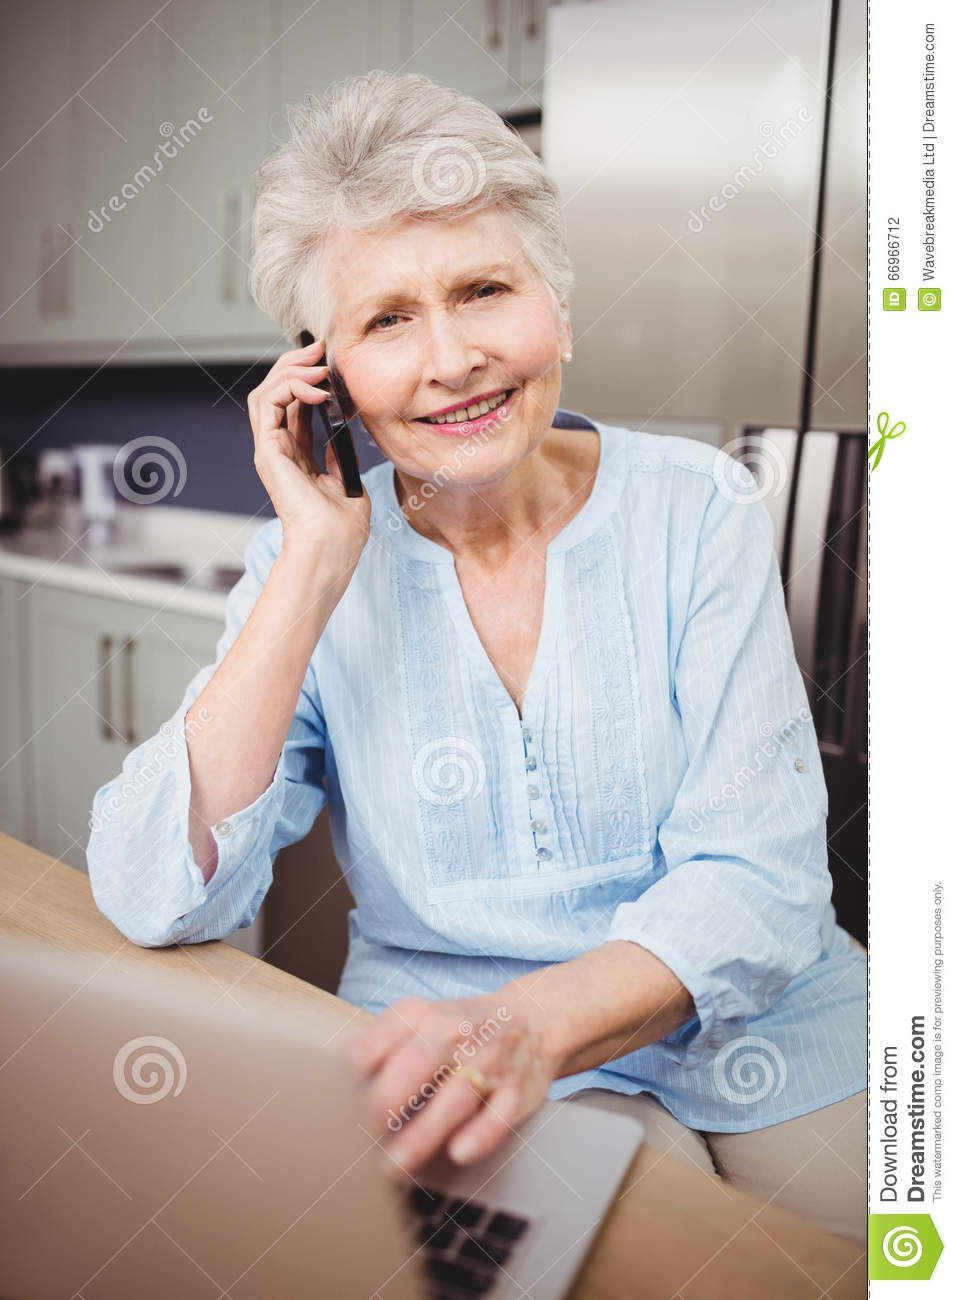phone: (294, 328, 374, 502)
talk: (249, 246, 542, 551)
